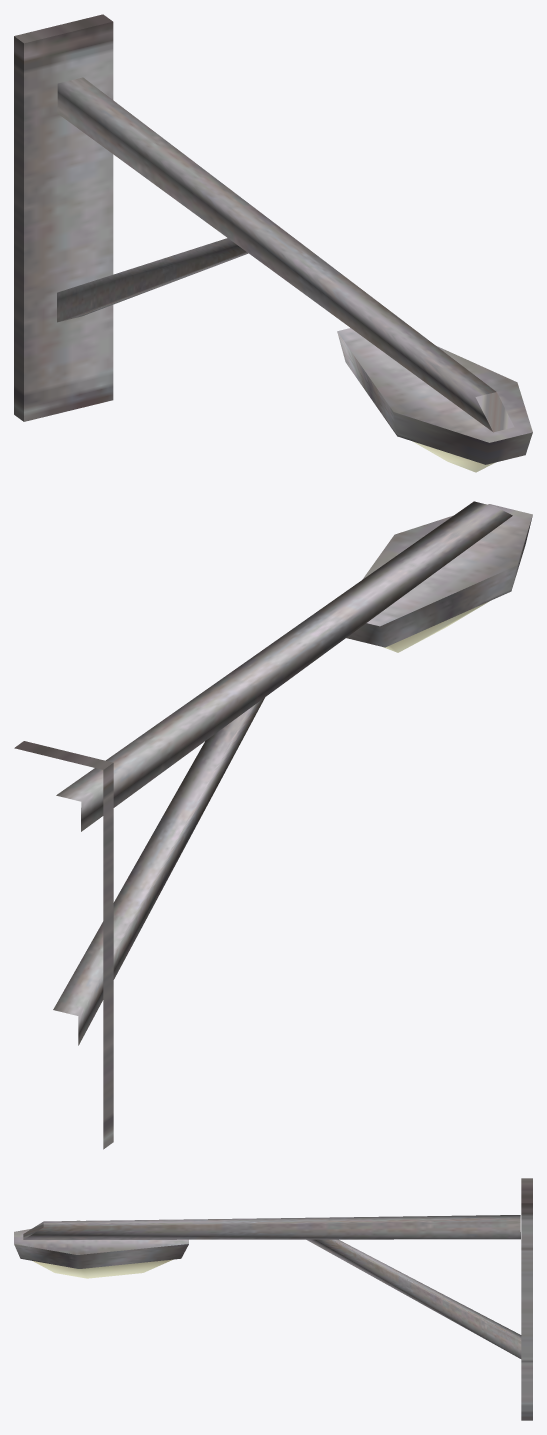
Rendered from M2_Lampost_Wall_On.glb.
3 renders of one model, top to bottom at view 1: azimuth 30°, elevation 25°; view 2: azimuth 150°, elevation 25°; view 3: azimuth 270°, elevation 25°, orthographic. The views are drawn at different scales.
Parts seen in each view (by area): view 1: M2_LAMPOST_WALL_ON; view 2: M2_LAMPOST_WALL_ON; view 3: M2_LAMPOST_WALL_ON.
Boxes of the visible parts, left/top/right/bottom form: M2_LAMPOST_WALL_ON: left=14, top=14, right=532, bottom=472; M2_LAMPOST_WALL_ON: left=14, top=501, right=532, bottom=1149; M2_LAMPOST_WALL_ON: left=14, top=1178, right=532, bottom=1420.
Bounding box in the file's own units: 0.355 × 1.04 × 2.25.
Materials: 1 (1 with a texture image).
